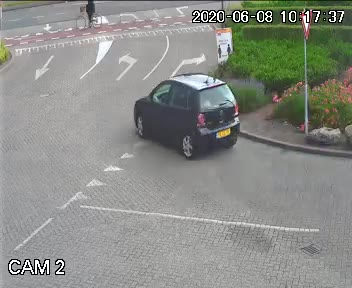car: (129, 67, 256, 173)
